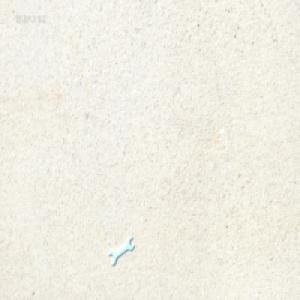Wrench: (109, 237, 134, 266)
